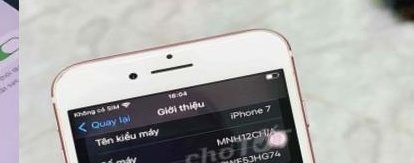scratch: (47, 67, 81, 88)
